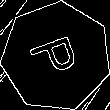P_E: (26, 30, 86, 83)
